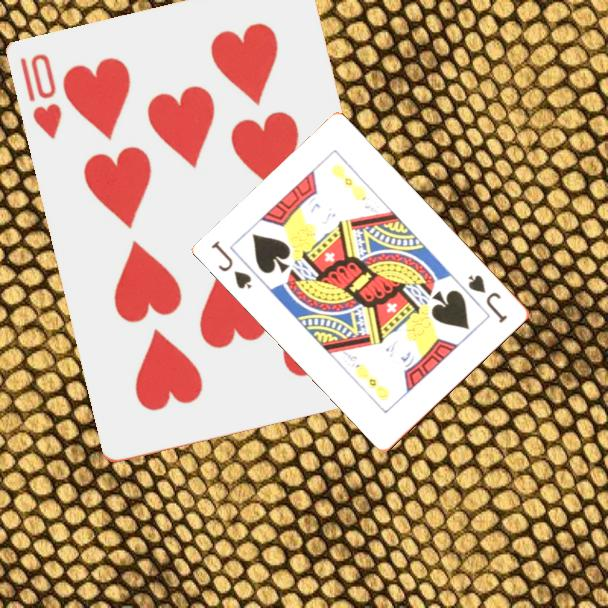h10: (17, 50, 66, 142)
s11: (208, 237, 256, 292), (465, 271, 511, 326)
